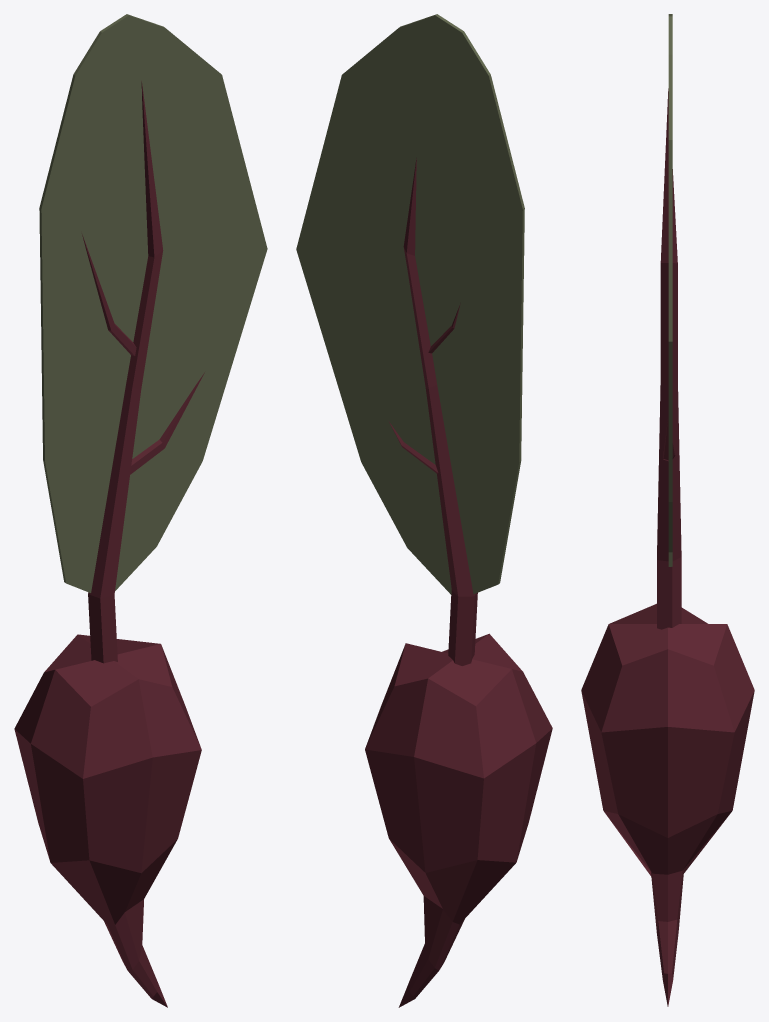
The model's file is Beet_2.glb.
3 renders of one model, left to right at view 1: azimuth 30°, elevation 25°; view 2: azimuth 150°, elevation 25°; view 3: azimuth 270°, elevation 25°, orthographic. The views are drawn at different scales.
Parts seen in each view (by area): view 1: Beet_2_Cube.003; view 2: Beet_2_Cube.003; view 3: Beet_2_Cube.003.
Part boxes in pixels (<box>): Beet_2_Cube.003: <box>14,14,267,1007</box>; Beet_2_Cube.003: <box>296,14,552,1007</box>; Beet_2_Cube.003: <box>581,14,754,1006</box>.
Bounding box in the file's own units: 0.2131 × 0.8597 × 0.139.
